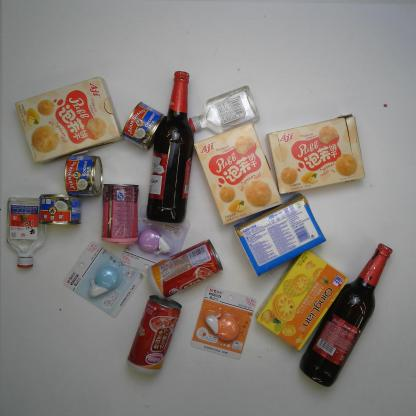Alcohol: (297, 242, 393, 390), (143, 70, 195, 226), (187, 82, 262, 136), (3, 193, 48, 272)
Canned Food: (144, 237, 227, 301), (124, 292, 184, 377), (99, 181, 141, 246), (120, 98, 167, 152), (63, 153, 104, 199), (37, 192, 84, 226)
Dessert: (13, 72, 126, 165), (192, 121, 285, 228), (254, 248, 349, 352), (265, 111, 368, 197)
Stationery: (62, 241, 144, 319), (118, 202, 194, 277), (189, 284, 257, 360)
Tissue: (231, 191, 328, 279)
